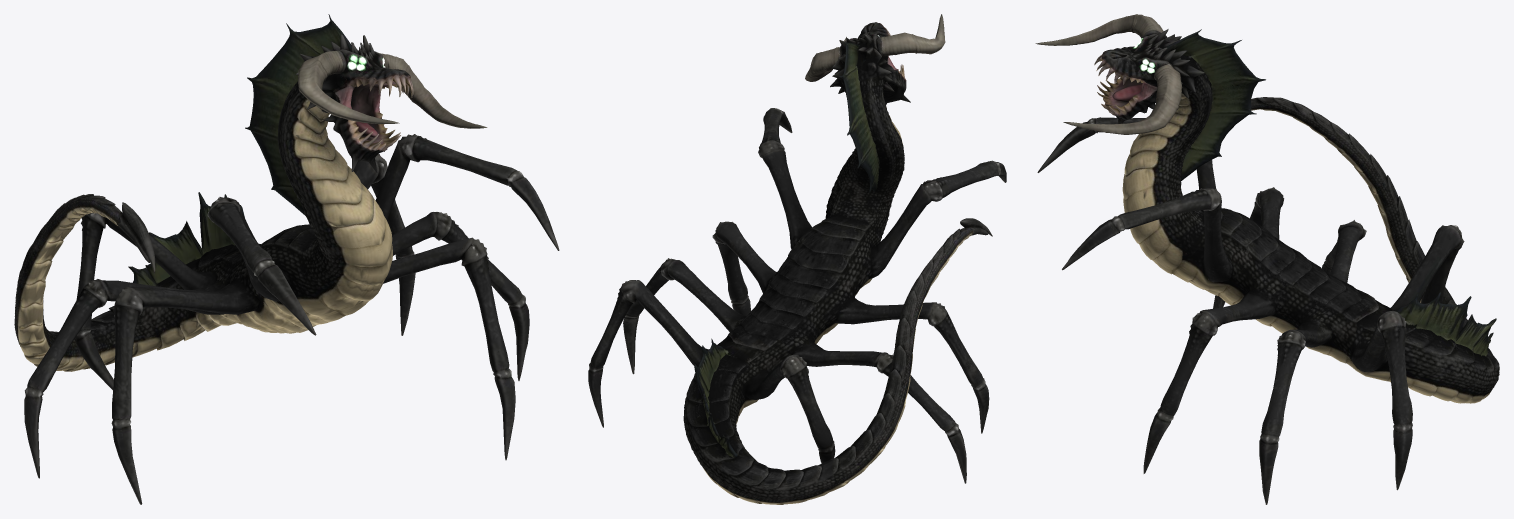
The model's file is MZ4250 - Spider Dragon.glb.
The picture shows the model from 3 angles, left to right: view 1: azimuth 30°, elevation 25°; view 2: azimuth 150°, elevation 25°; view 3: azimuth 270°, elevation 25°; orthographic projection. The views are drawn at different scales.
Parts seen in each view (by area): view 1: Spider Dragon.001; view 2: Spider Dragon.001; view 3: Spider Dragon.001.
Boxes of the visible parts, box(x1,y1,x2,y2) form: Spider Dragon.001: box(14, 14, 559, 504); Spider Dragon.001: box(588, 14, 1006, 504); Spider Dragon.001: box(1035, 14, 1499, 504).
Size of the model in its own units: 1.82 by 1.71 by 1.85.
1 material, 1 textured.
